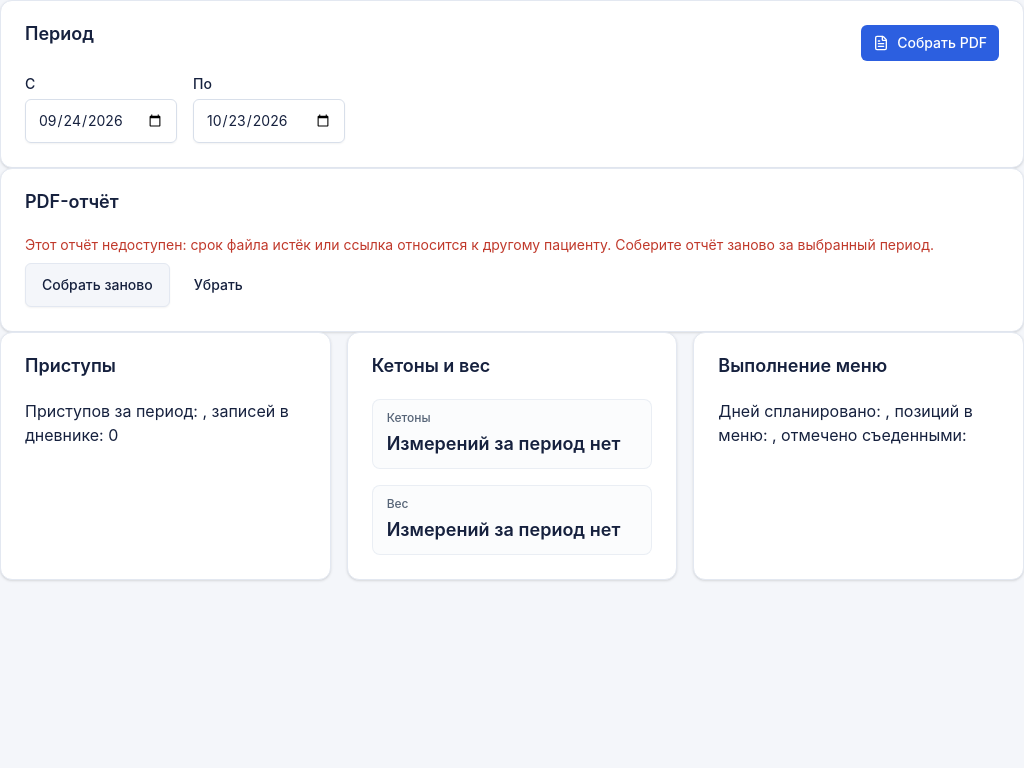
Test: сборка PDF-отчёта › исчезнувшая задача — сообщение и выход, а не вечное «собираем»
Expected: the text "Этот отчёт недоступен: срок файла истёк или ссылка относится к другому пациенту. Соберите отчёт заново за выбранный пери" is shown, [25,236,934,253]
Click the button "Убрать".
click(218, 285)  # box [178,263,259,307]
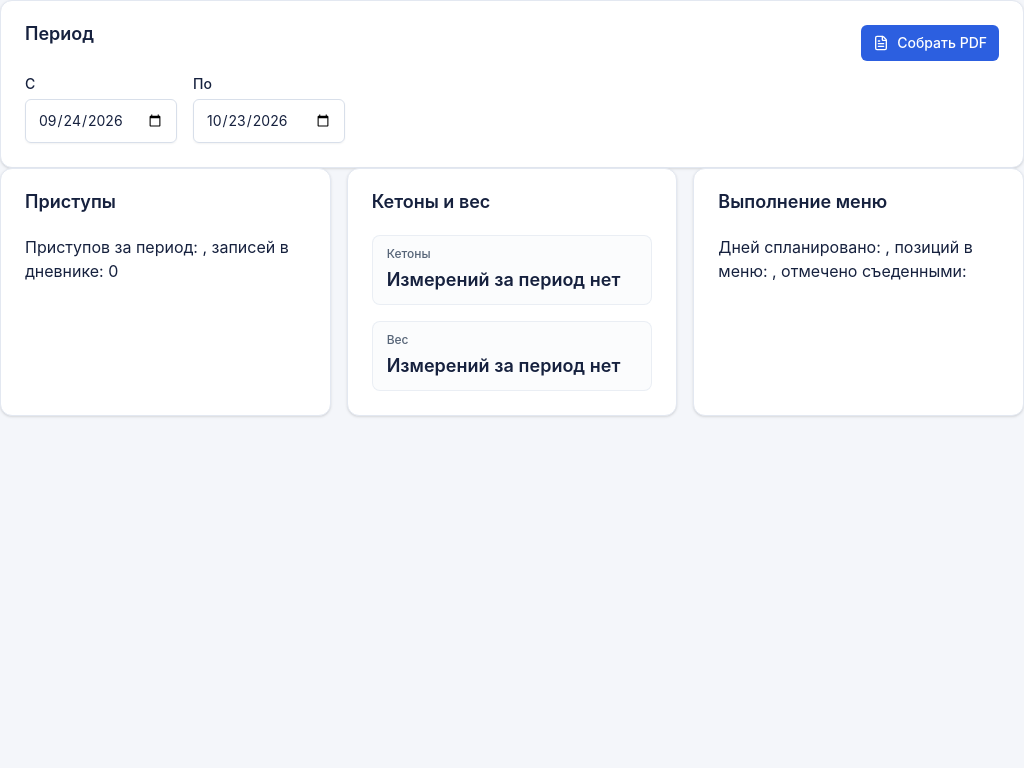
Expected: the text "Этот отчёт недоступен: срок файла истёк или ссылка относится к другому пациенту. Соберите отчёт заново за выбранный пери" is gone
